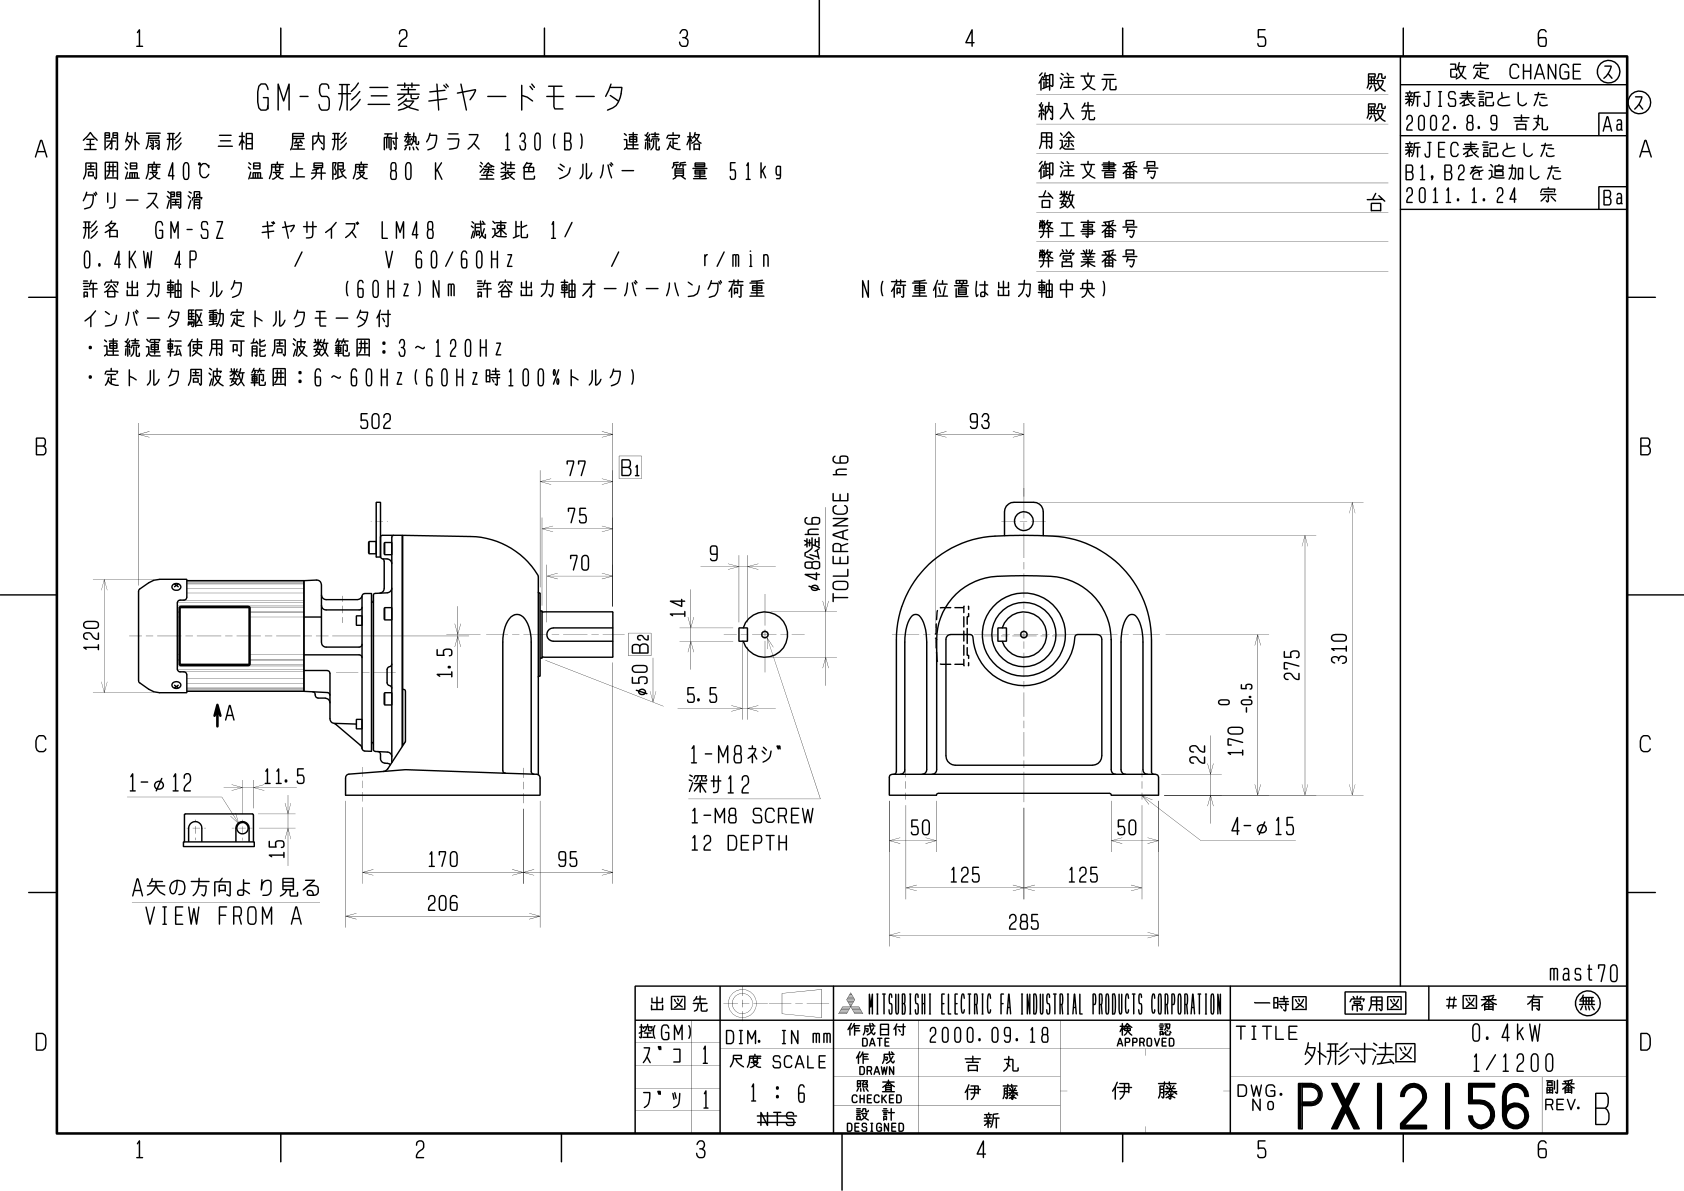GM_S_インバタ屋外＿三相_脚: (71, 398, 1383, 962)
